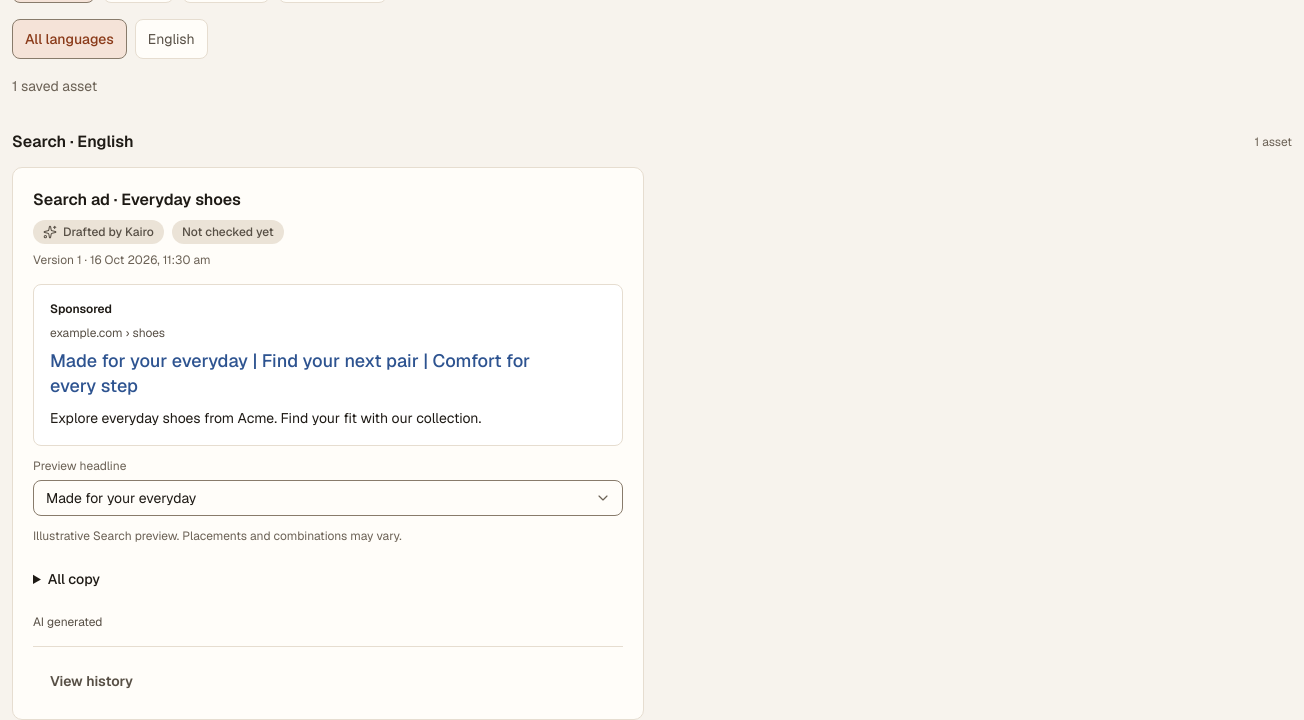
Test case: history loads on demand, explains provenance and retries failures
(page scrolled)
What coordinates should you click on to do the following:
click the button "View history"
I would click on:
 (91, 680)
Its box is [33,662,150,698].
(page scrolled)
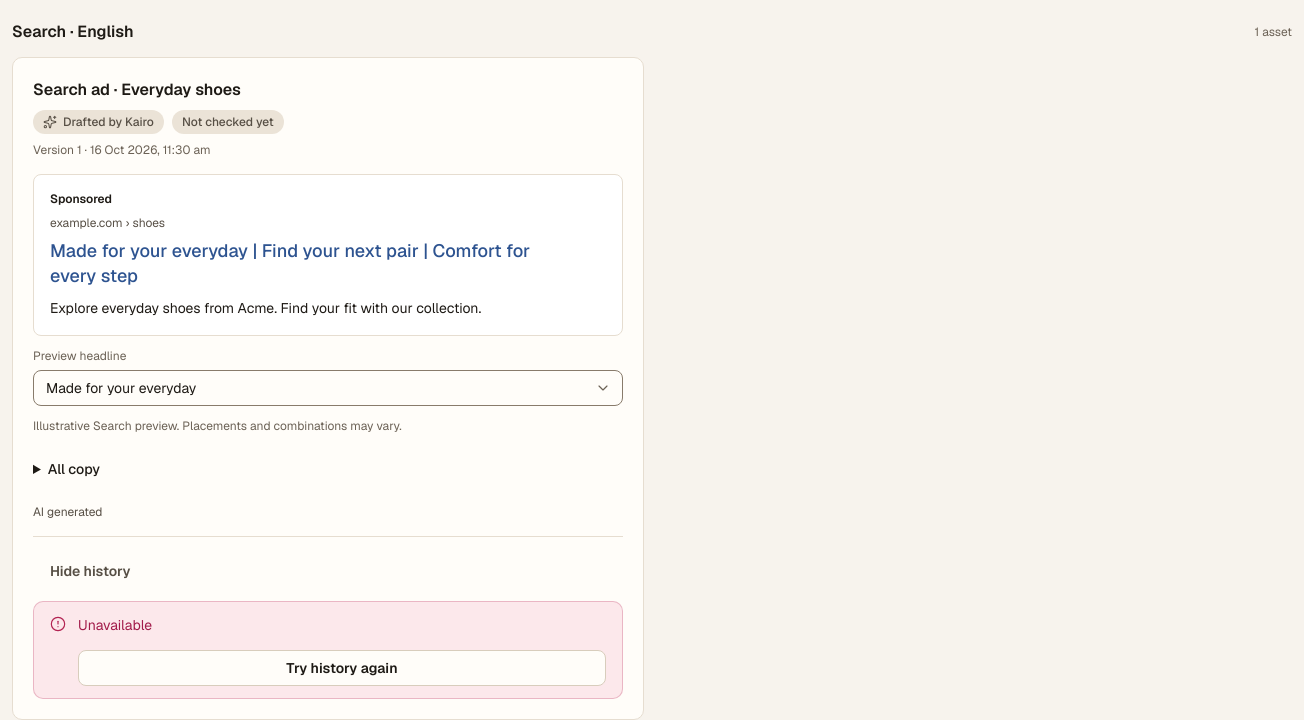
Check: the text "Unavailable" is shown, box [78,616,152,634]
What coordinates should you click on to do the following:
click the button "Try history again"
I would click on:
 (342, 668)
Its box is [78,650,606,686].
(page scrolled)
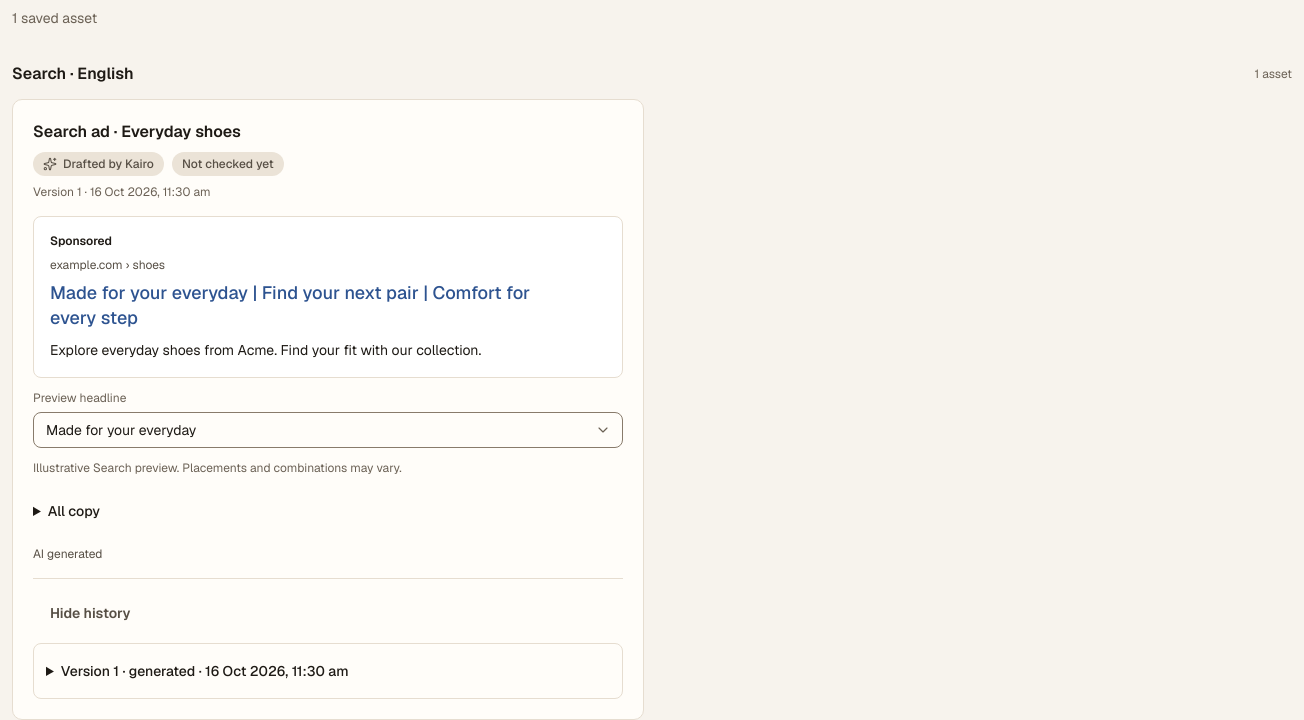
Check: the heading "Version 1 · generated · 16 Oct 2026, 11:30 am" is shown, box [61,662,348,680]
